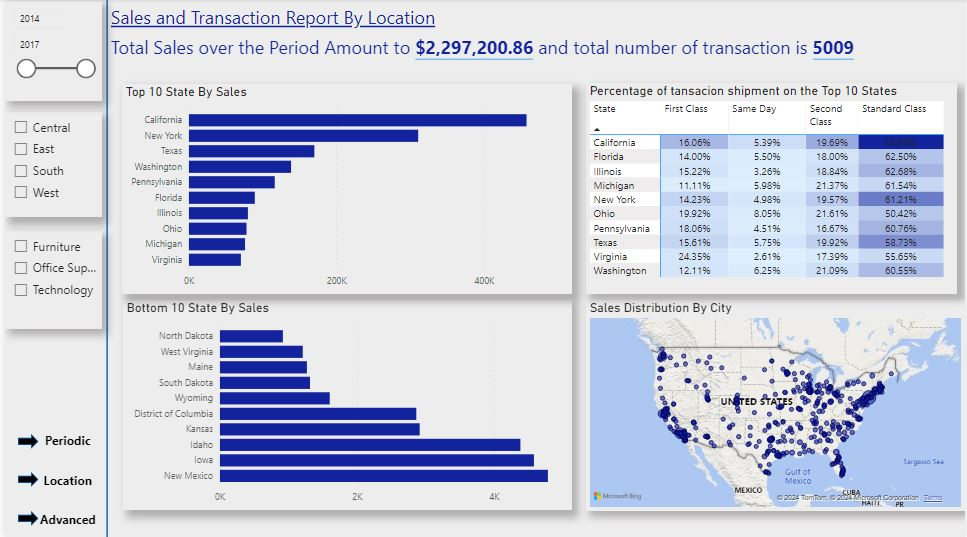

The page's visual inventory and layout, read from the dashboard file:
{"tool":"powerbi","page":{"name":"Location Report","canvas":[1280,720],"ordinal":1},"visuals":[{"type":"shape","box":[128.9,0,13.6,720],"z":0},{"type":"textbox","box":[136.5,3,579.3,56.1],"z":1000},{"type":"barChart","title":"Top 10 State By Sales","fields":{"Y":["Sum(Orders.Sales)"],"Category":["Orders.State"]},"box":[155.9,113.7,600,280],"z":2000},{"type":"pivotTable","title":"Percentage of tansacion shipment on the Top 10 States","fields":{"Rows":["Orders.State"],"Columns":["Orders.Ship Mode"],"Values":["Min(Orders.Order ID)"]},"box":[775,112.2,495,280.6],"z":3000},{"type":"slicer","fields":{"Values":["Orders.Order Date.Variation.Date Hierarchy.Year"]},"box":[0,3,128.9,133.5],"z":4000},{"type":"slicer","fields":{"Values":["Orders.Region"]},"box":[0,150.1,128.9,139.5],"z":5000},{"type":"slicer","fields":{"Values":["Orders.Category"]},"box":[0,309.4,128.9,130.4],"z":6000},{"type":"textbox","box":[136.5,42.5,1029.8,54.6],"z":7000},{"type":"barChart","title":"Bottom 10 State By Sales","fields":{"Y":["Sum(Orders.Sales)"],"Category":["Orders.State"]},"box":[157.2,401.4,598.3,280.2],"z":8000},{"type":"map","title":"Sales Distribution By City","fields":{"Category":["Orders.City Country"],"Size":["Sum(Orders.Sales)"]},"box":[775,401.9,505,280.6],"z":9000}]}

Visuals, with their boxes on the page's 1280x720 design canvas (x1, y1, x2, y2). These are canvas units, not pixel positions in the 967x537 screenshot, which may show the page scaled, cropped or inside an application window:
shape: BBox(129, 0, 142, 720)
textbox: BBox(136, 3, 716, 59)
"Top 10 State By Sales" barChart: BBox(156, 114, 756, 394)
"Percentage of tansacion shipment on the Top 10 States" pivotTable: BBox(775, 112, 1270, 393)
slicer - Orders.Order Date.Variation.Date Hierarchy.Year: BBox(0, 3, 129, 136)
slicer - Orders.Region: BBox(0, 150, 129, 290)
slicer - Orders.Category: BBox(0, 309, 129, 440)
textbox: BBox(136, 42, 1166, 97)
"Bottom 10 State By Sales" barChart: BBox(157, 401, 756, 682)
"Sales Distribution By City" map: BBox(775, 402, 1280, 682)
